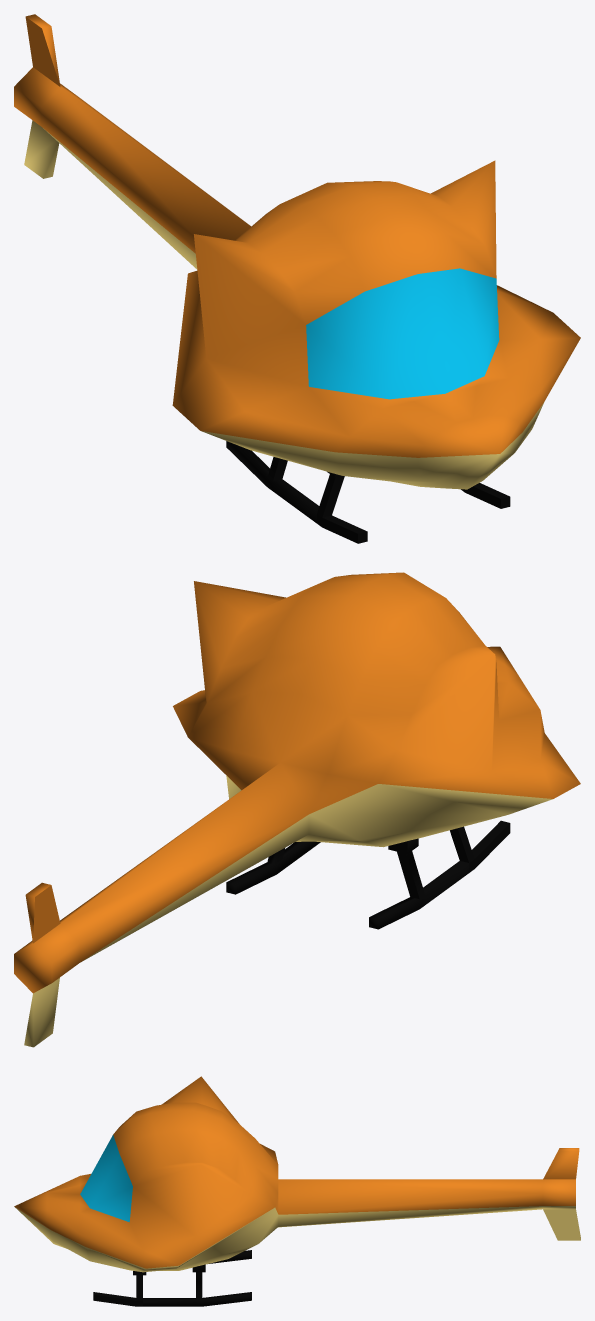
File: helicopter-carmelita.glb
3 views of the same model, one above another, from view 1: azimuth 30°, elevation 25°; view 2: azimuth 150°, elevation 25°; view 3: azimuth 270°, elevation 25° (orthographic). The views are drawn at different scales.
Visible parts, largest first — view 1: Cube-col; view 2: Cube-col; view 3: Cube-col.
Boxes of the visible parts, x1=… form: Cube-col: x1=14, y1=14, x2=580, y2=543; Cube-col: x1=14, y1=572, x2=580, y2=1047; Cube-col: x1=14, y1=1076, x2=580, y2=1306.
Size of the model in its own units: 8 by 5.8 by 17.15.
